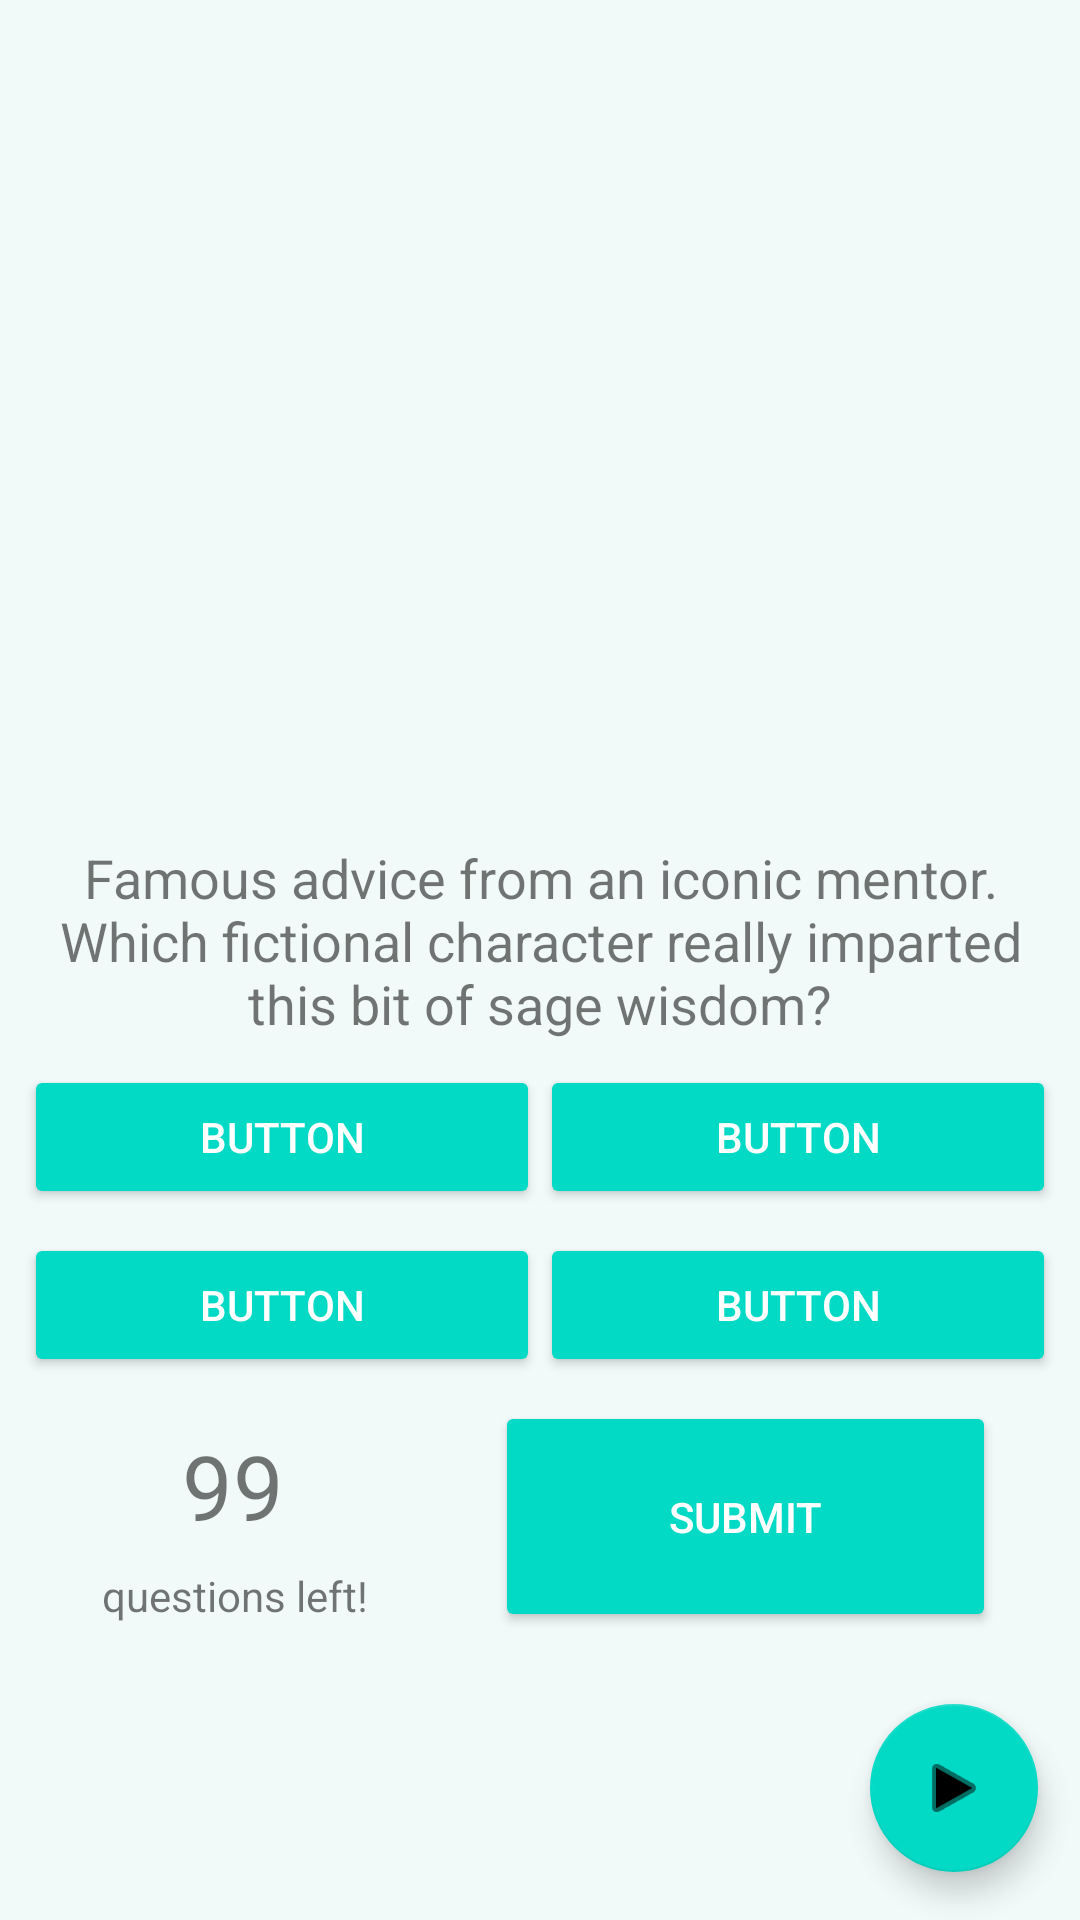

Named icons in this screenshot (1080×1920) and their bounding boxes, [left=x1, top=y1, right=x2, bottom=y2]:
play: [left=870, top=1704, right=1038, bottom=1872]
